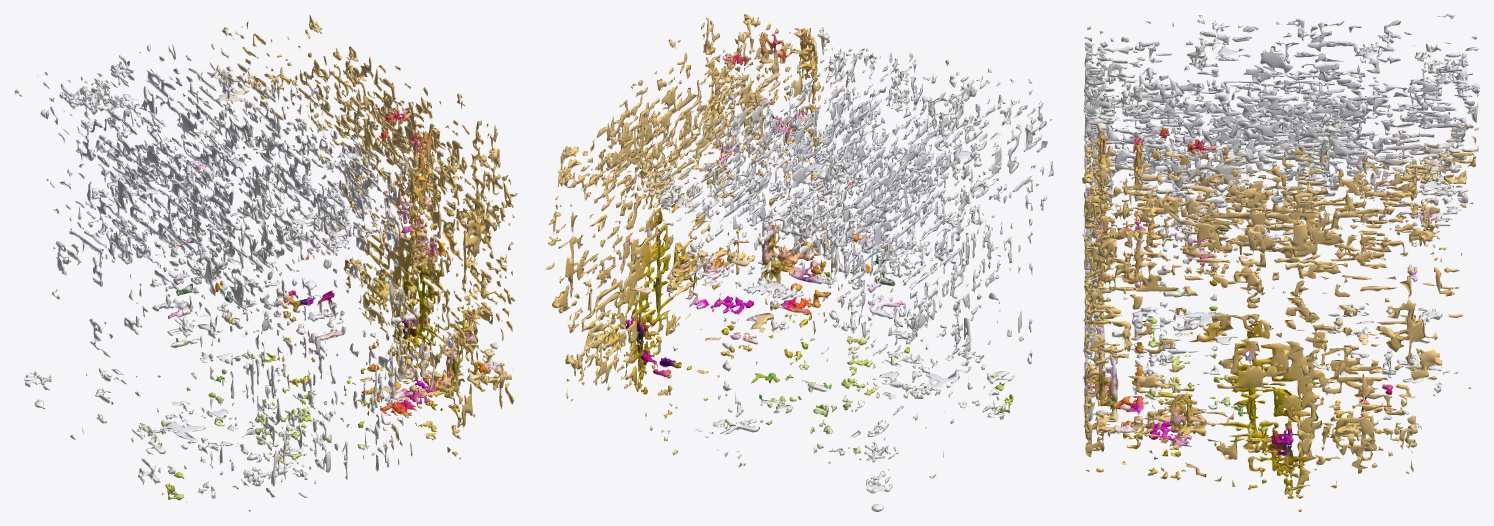
The model's file is grass_patch.glb.
3 views of the same model, side by side, from view 1: azimuth 30°, elevation 25°; view 2: azimuth 150°, elevation 25°; view 3: azimuth 270°, elevation 25° (orthographic). The views are drawn at different scales.
Parts seen in each view (by area): view 1: world; view 2: world; view 3: world.
Part boxes in pixels (box(x1,y1,x2,y2)): world: box(14, 14, 517, 511); world: box(546, 14, 1053, 511); world: box(1082, 14, 1479, 511).
Size of the model in its own units: 0.9921 by 0.9671 by 0.9944.
Materials: 1 (1 with a texture image).
